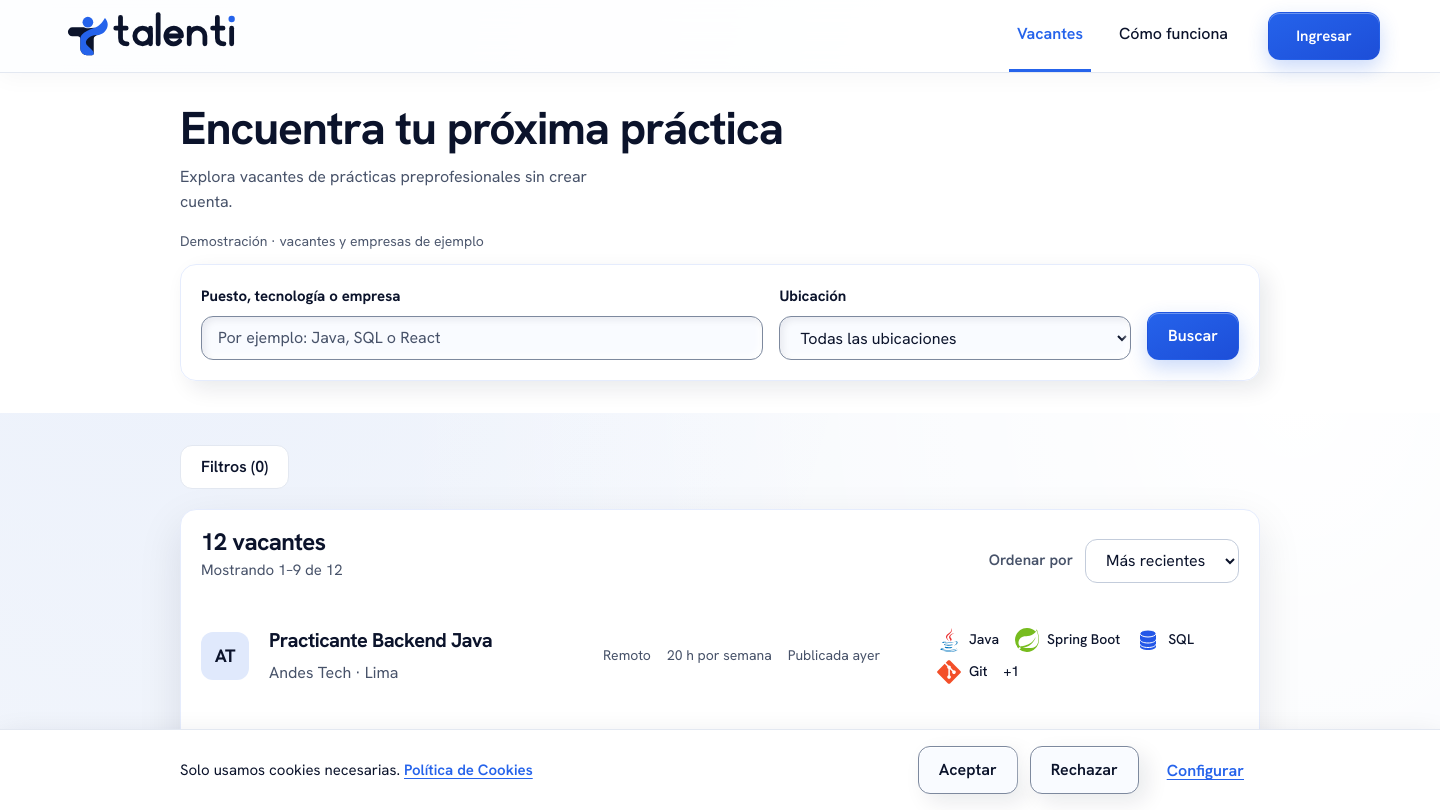
Test: Page /oportunidades: search and filters (004-17) › searches by place with the selector and "Buscar"
Select "Arequipa (3)" in the dropdown labelled "Ubicación": (955, 338) [780,316,1131,360]
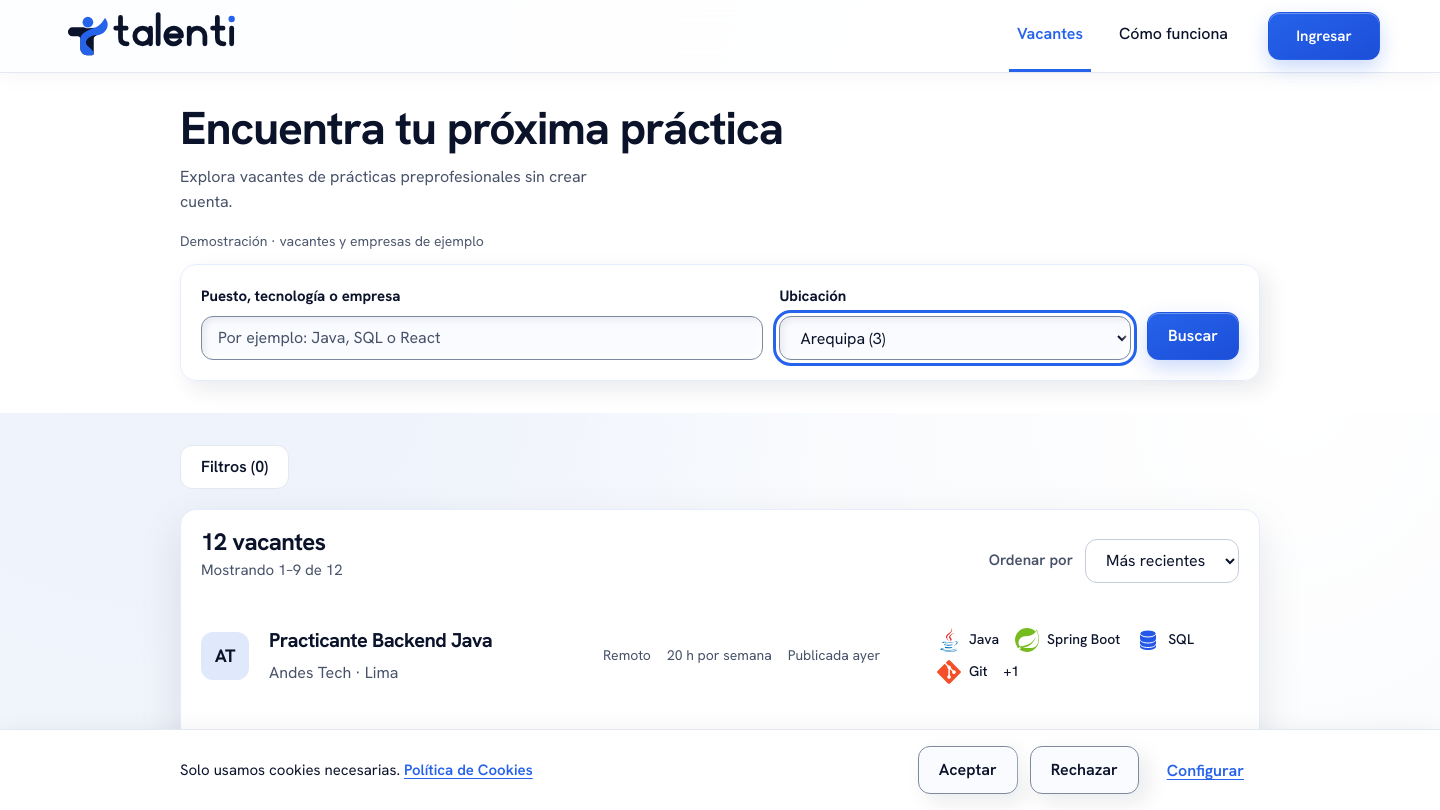
Click the button "Buscar": (1193, 336) [1147,312,1239,360]
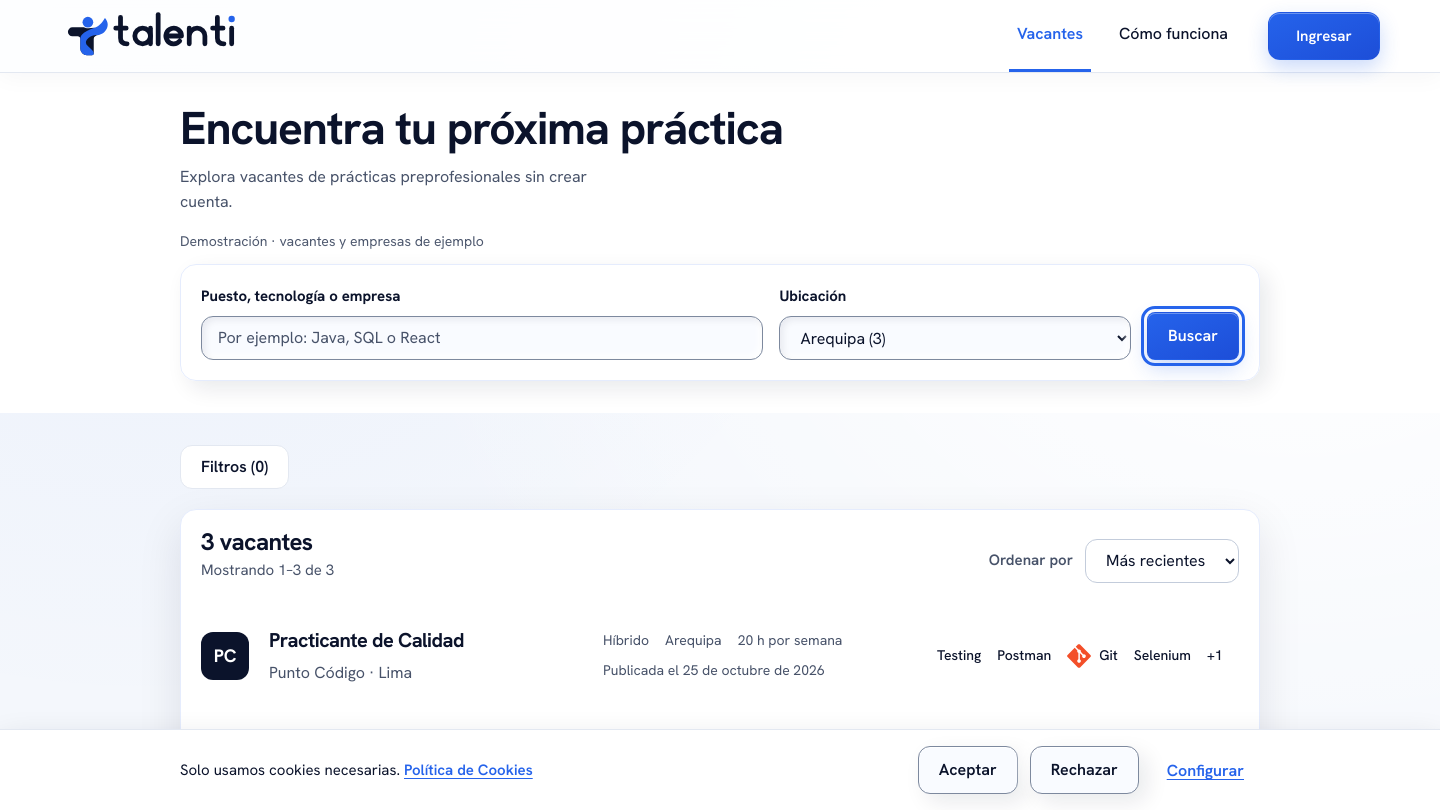
Now the heading "3 vacantes" is shown, box [201,526,312,557]
